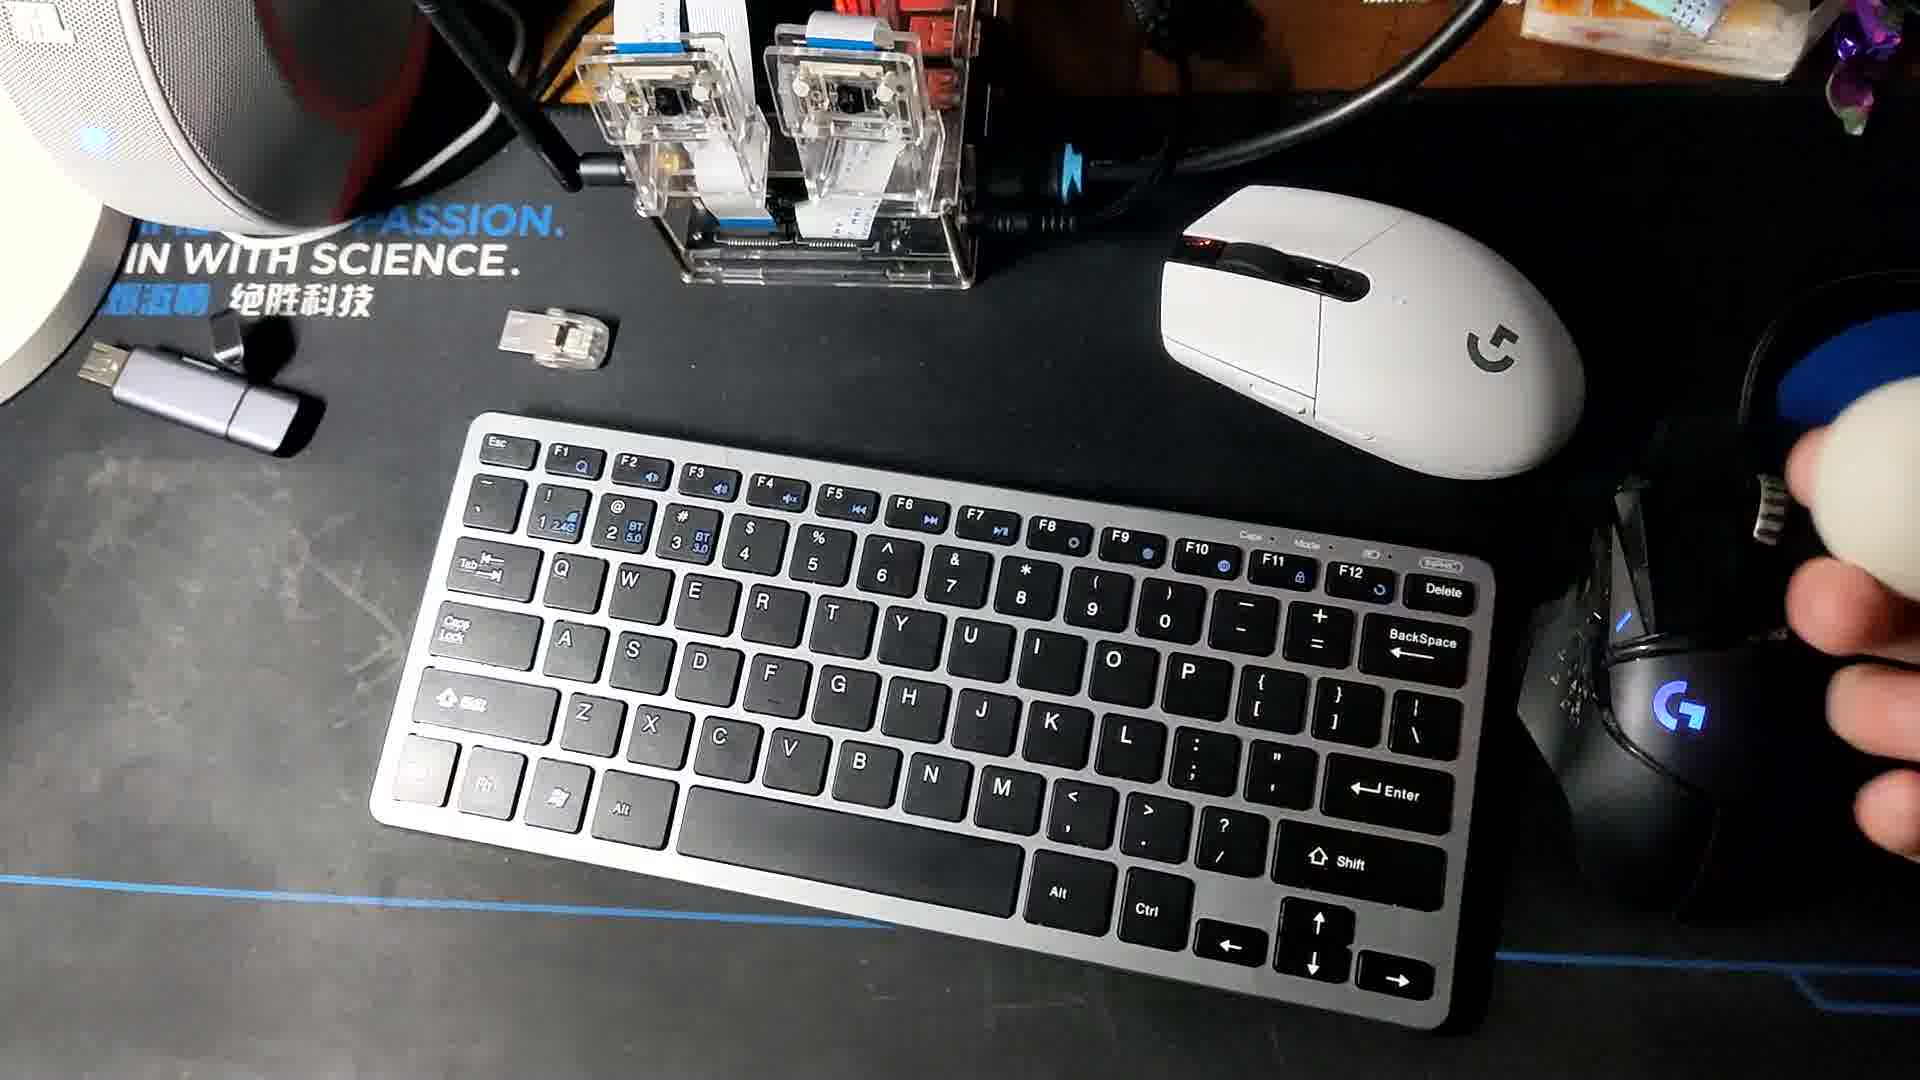Ball: (1812, 375, 1920, 611)
